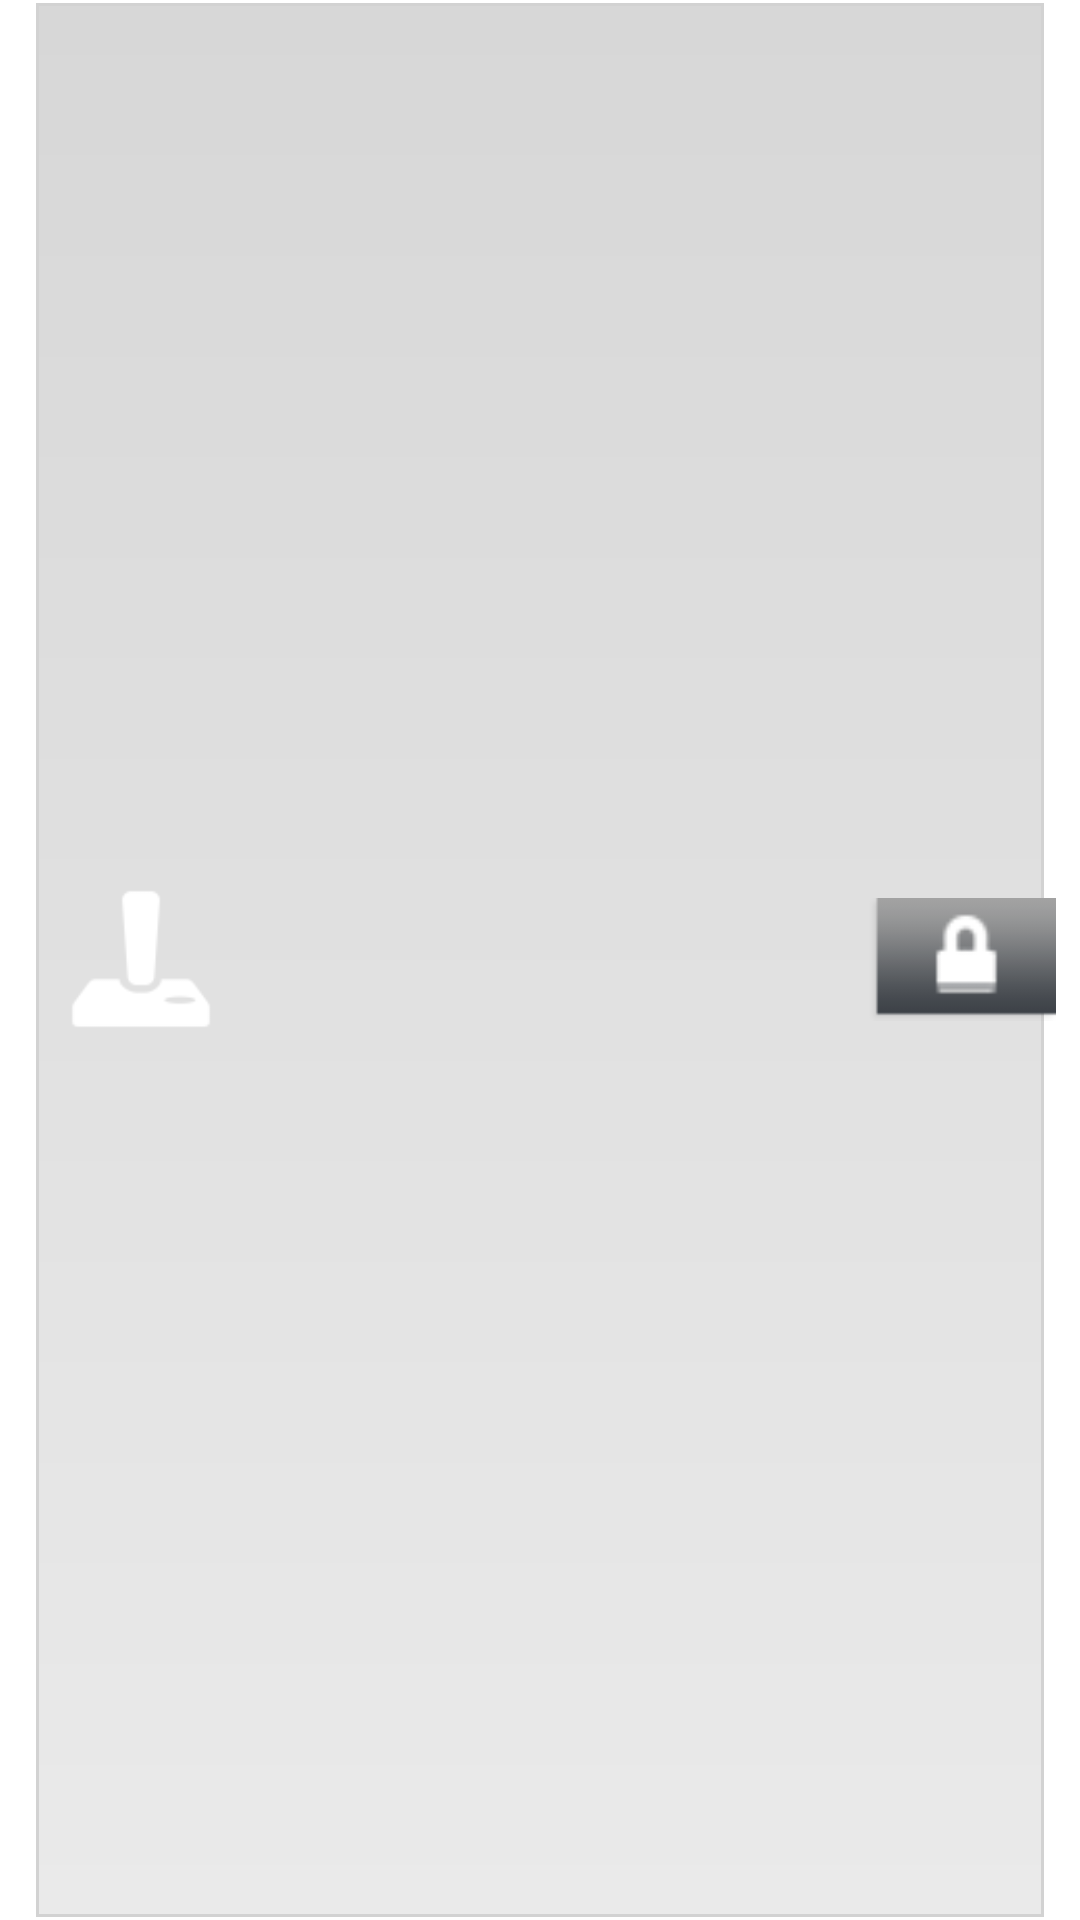

Screen size 1080 x 1920. Icon name, then its center in pixels as (x=x, y=y):
game: (x=141, y=959)
